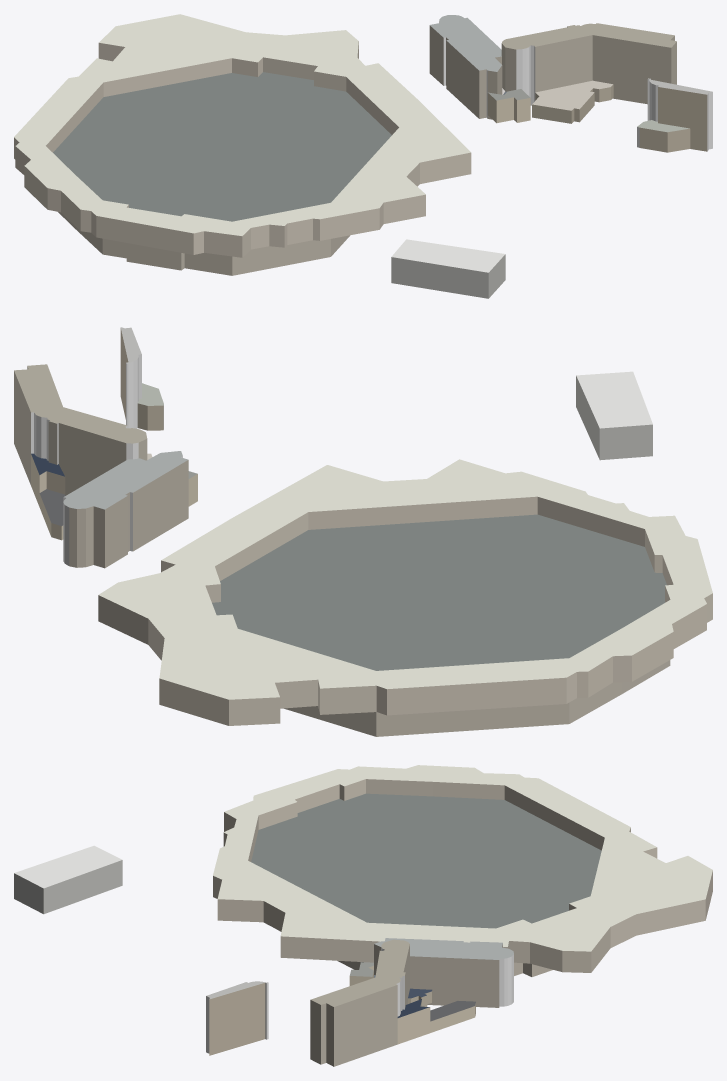
The picture shows the model from 3 angles, top to bottom: view 1: azimuth 30°, elevation 25°; view 2: azimuth 150°, elevation 25°; view 3: azimuth 270°, elevation 25°; orthographic projection. The views are drawn at different scales.
Visible parts, largest first — view 1: tuile; view 2: tuile; view 3: tuile.
Boxes of the visible parts, x1=… form: tuile: x1=14, y1=14, x2=712, y2=298; tuile: x1=14, y1=327, x2=712, y2=736; tuile: x1=14, y1=765, x2=712, y2=1066.
Size of the model in its own units: 313 by 48.82 by 327.
